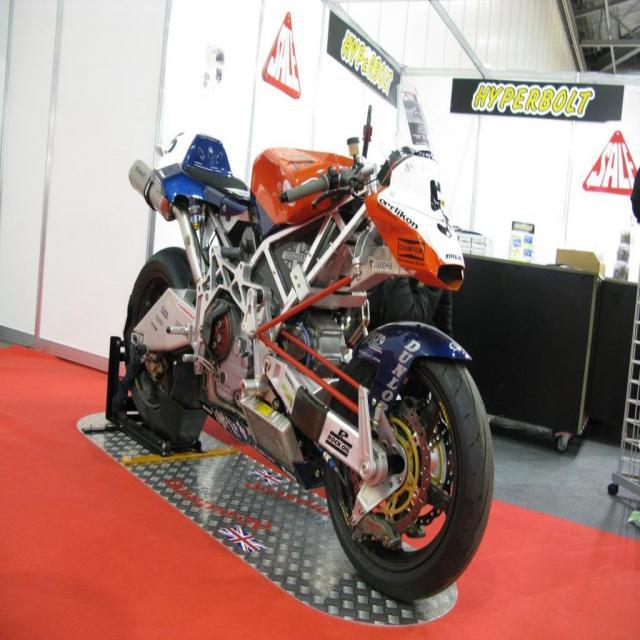bus: (94, 108, 512, 592)
